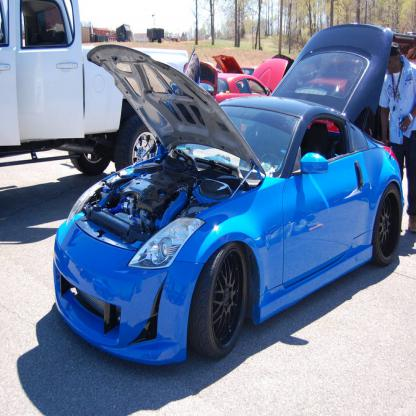Car: (53, 23, 405, 365)
Truck: (0, 0, 189, 172)
